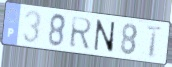3: (22, 10, 44, 46)
8: (47, 12, 67, 48), (120, 23, 139, 57)
N: (93, 18, 116, 55)
R: (68, 15, 94, 50)
T: (145, 25, 164, 60)
